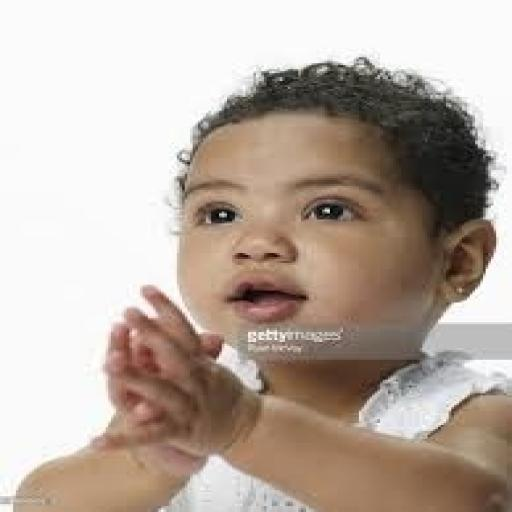clapping: (8, 53, 509, 510)
